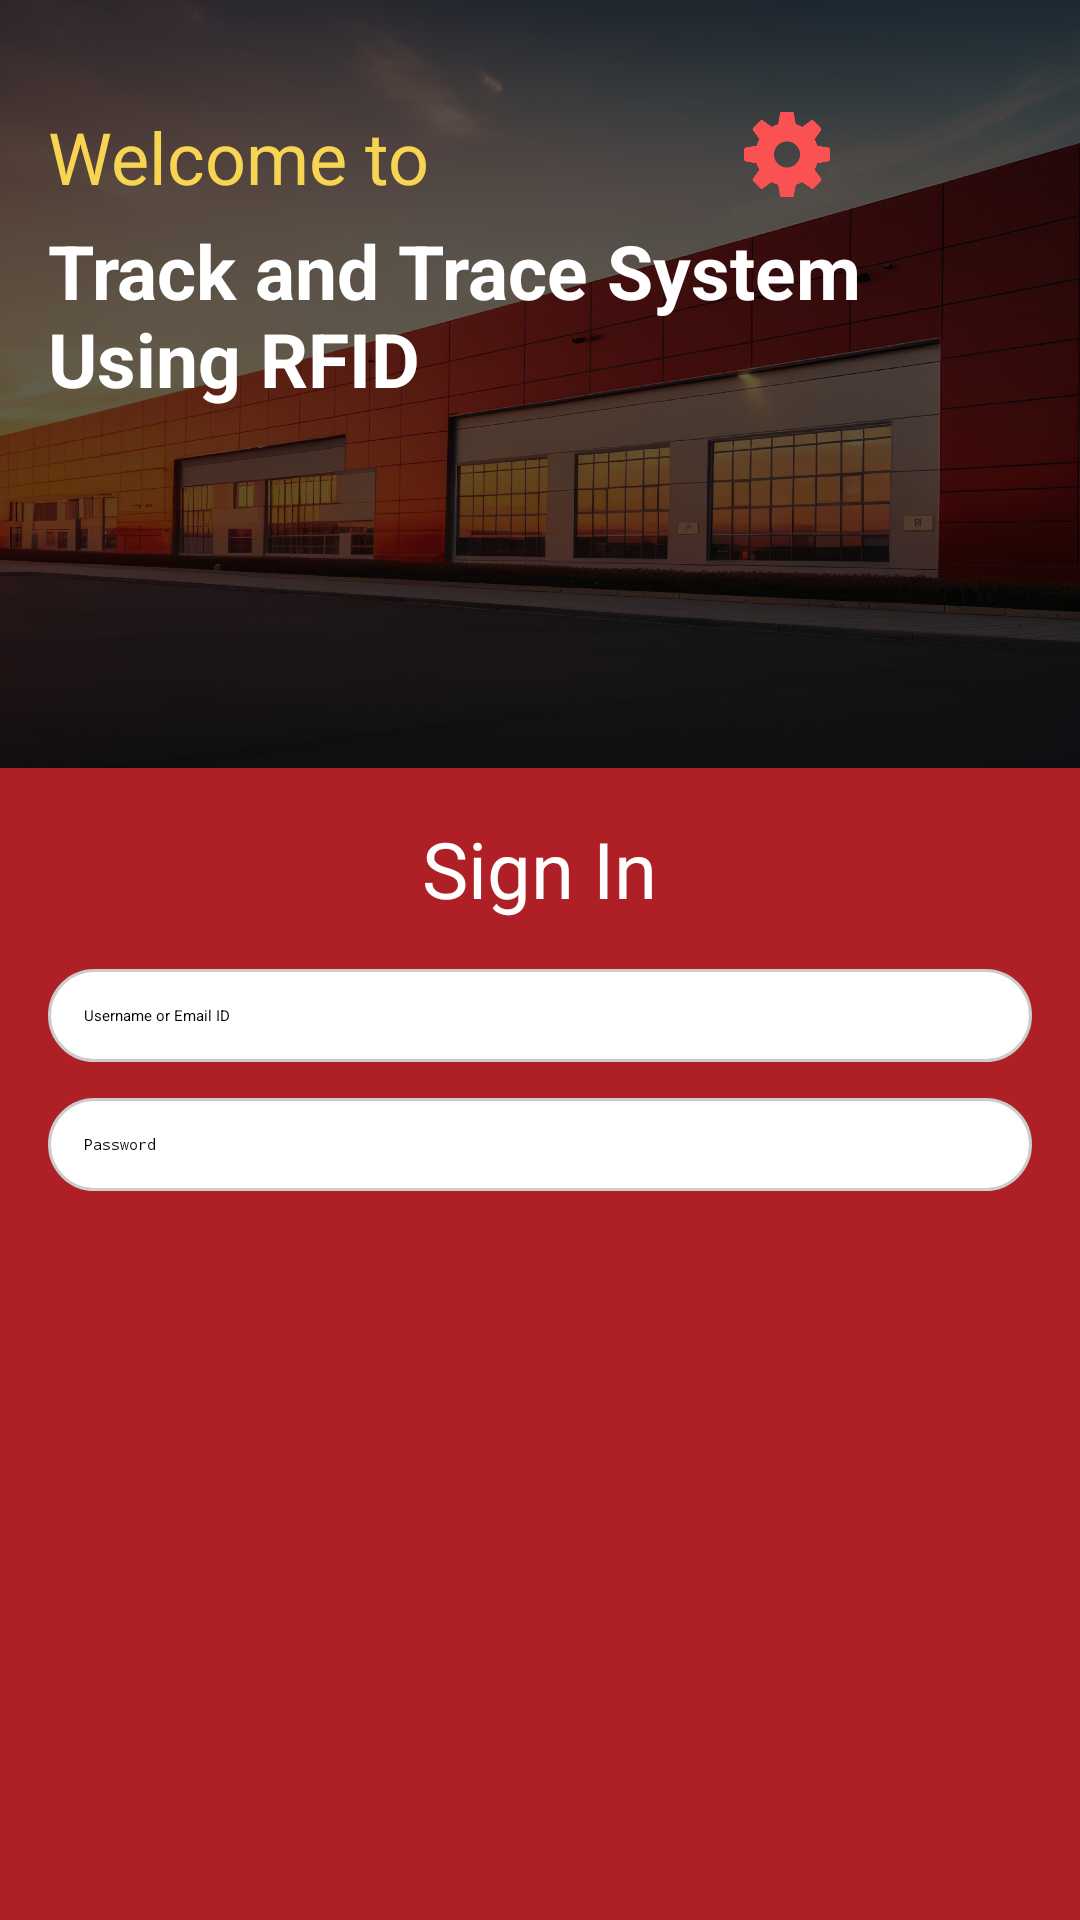

Named icons in this screenshot (1080x1920) and their centers, point (x, y):
settings: point (787, 154)
